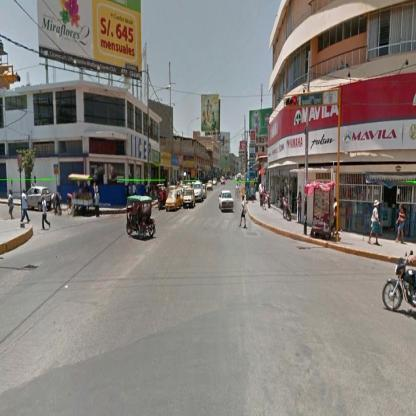Moto: (382, 250, 416, 318), (283, 197, 292, 224)
Peaton: (368, 201, 383, 247), (396, 205, 407, 246), (21, 191, 31, 225), (41, 197, 51, 231), (332, 197, 339, 238), (240, 195, 248, 230), (9, 191, 15, 220), (298, 193, 303, 226), (96, 188, 101, 219), (251, 184, 256, 206), (263, 185, 267, 212), (133, 182, 138, 195)
Pista: (10, 180, 250, 415), (1, 205, 197, 412), (246, 220, 414, 413), (3, 203, 107, 235)
Vehiculo: (127, 195, 154, 241), (27, 188, 52, 213), (166, 191, 182, 215), (158, 183, 171, 211), (219, 191, 234, 214), (184, 189, 196, 211), (194, 182, 205, 203), (208, 180, 213, 192), (203, 185, 207, 199), (213, 179, 218, 187)
